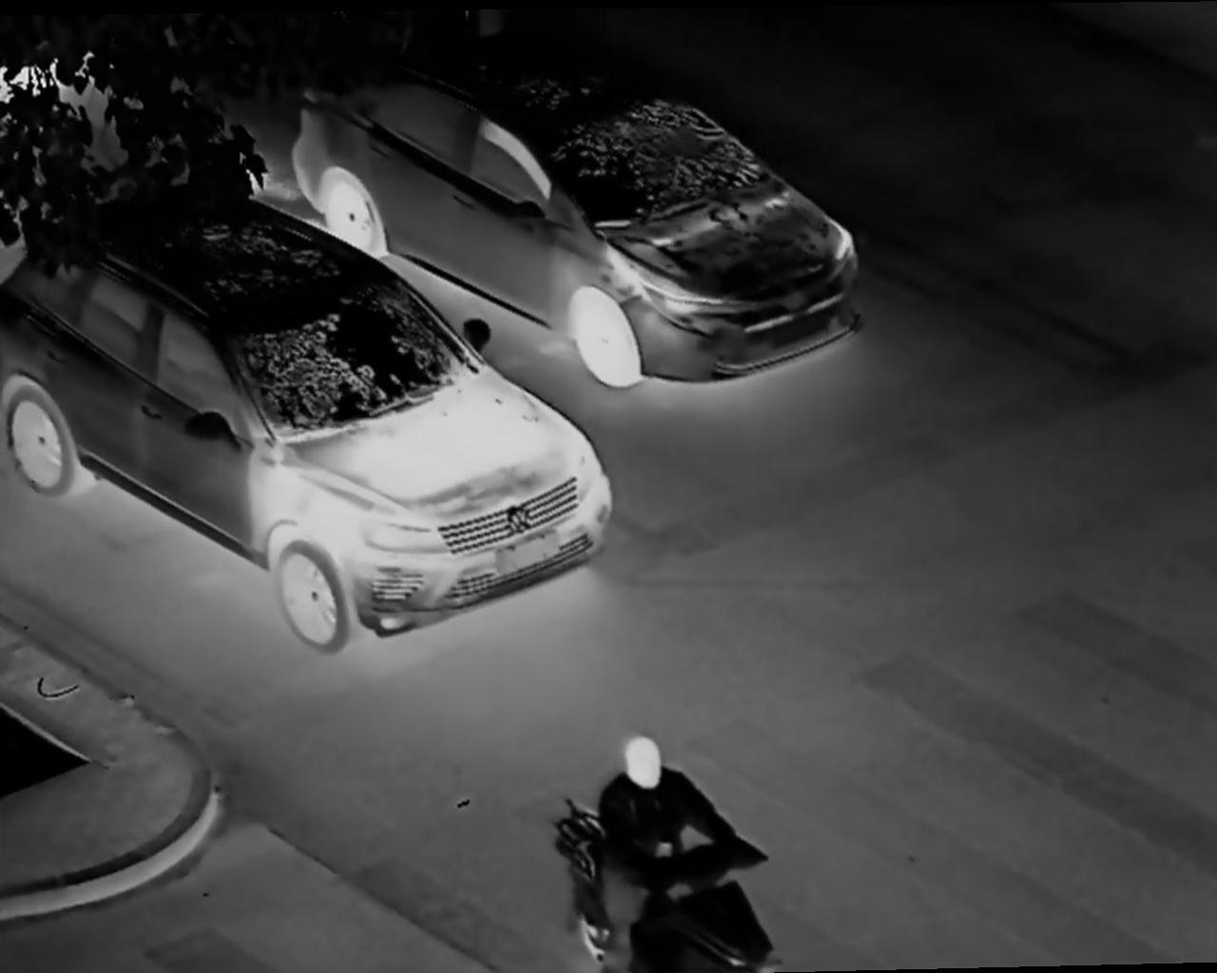person: (588, 717, 718, 953)
